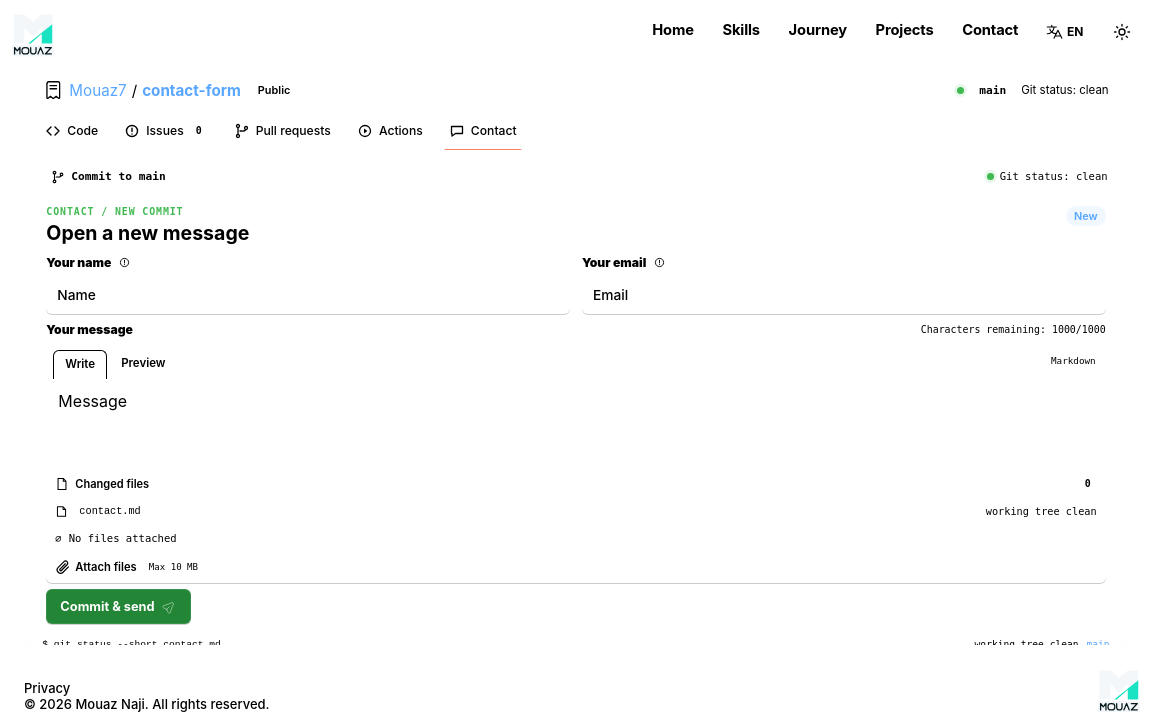
Test: contact send failures and success › explains a prepare failure with code busy
Type "Mouaz Test" into the field with id "contact-mobile-name" at (308, 295), box [46,277,570,314]
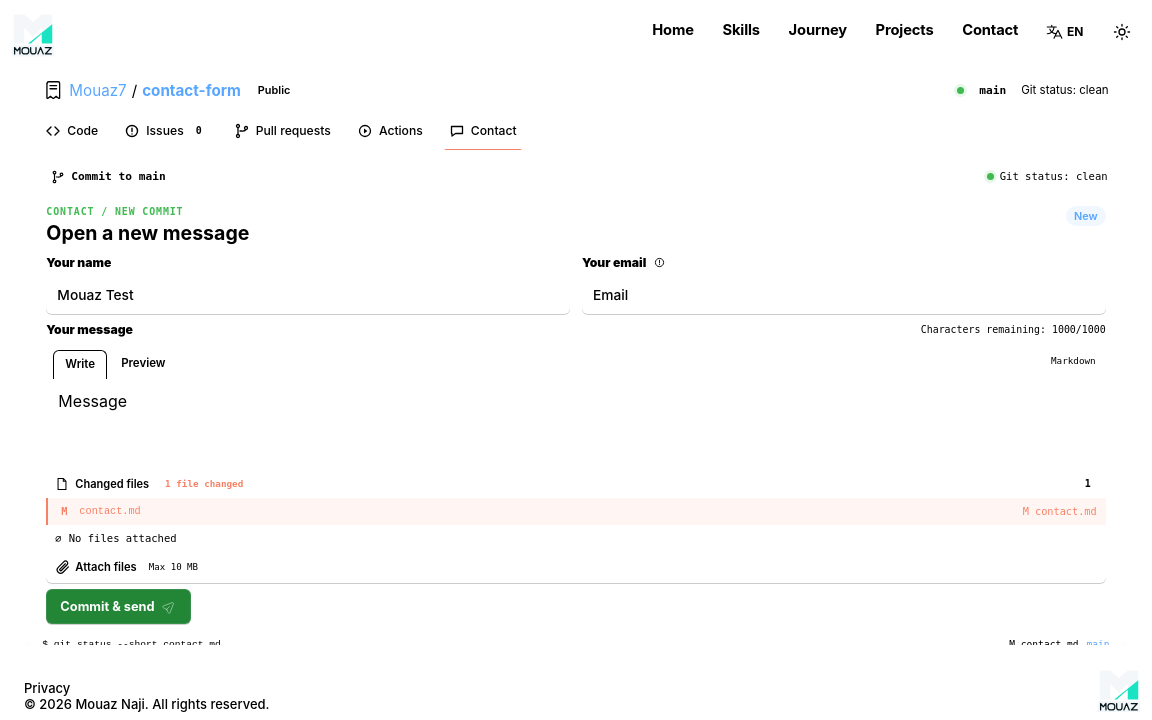
Type "test@example.com" into the field with id "contact-mobile-email" at (844, 295), box [582,277,1106,314]
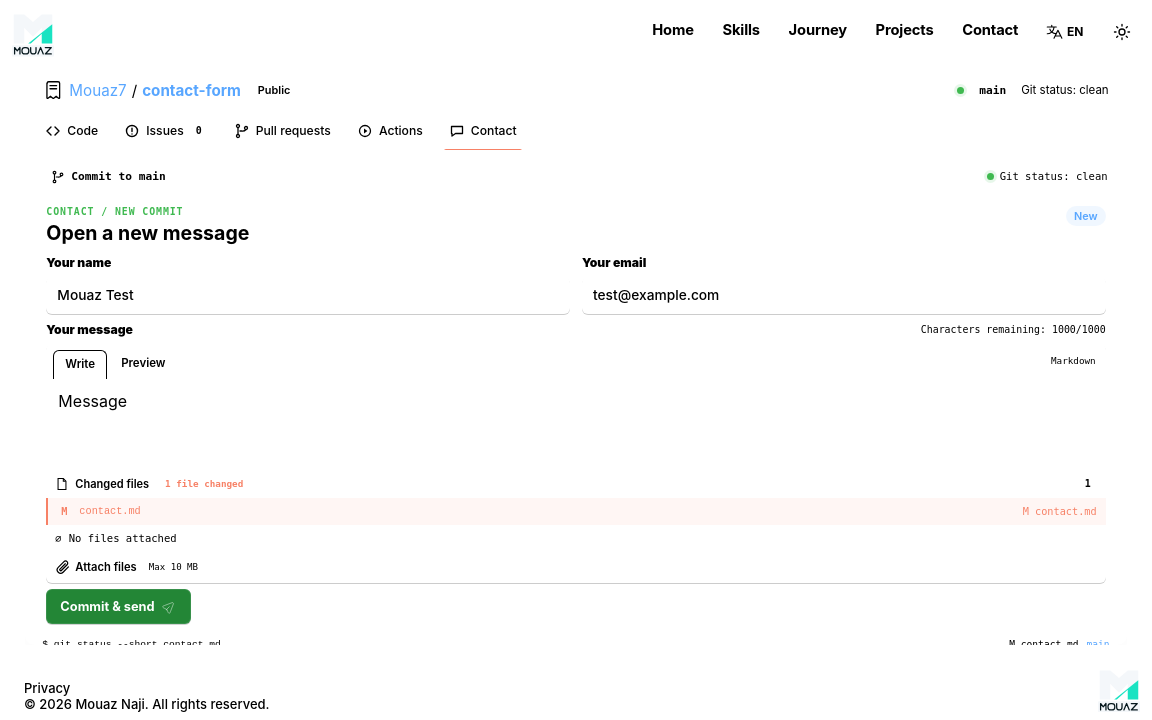
Type "A secure contact test." into the text box with id "contact-mobile-message" at (576, 424), box [46,378,1106,470]
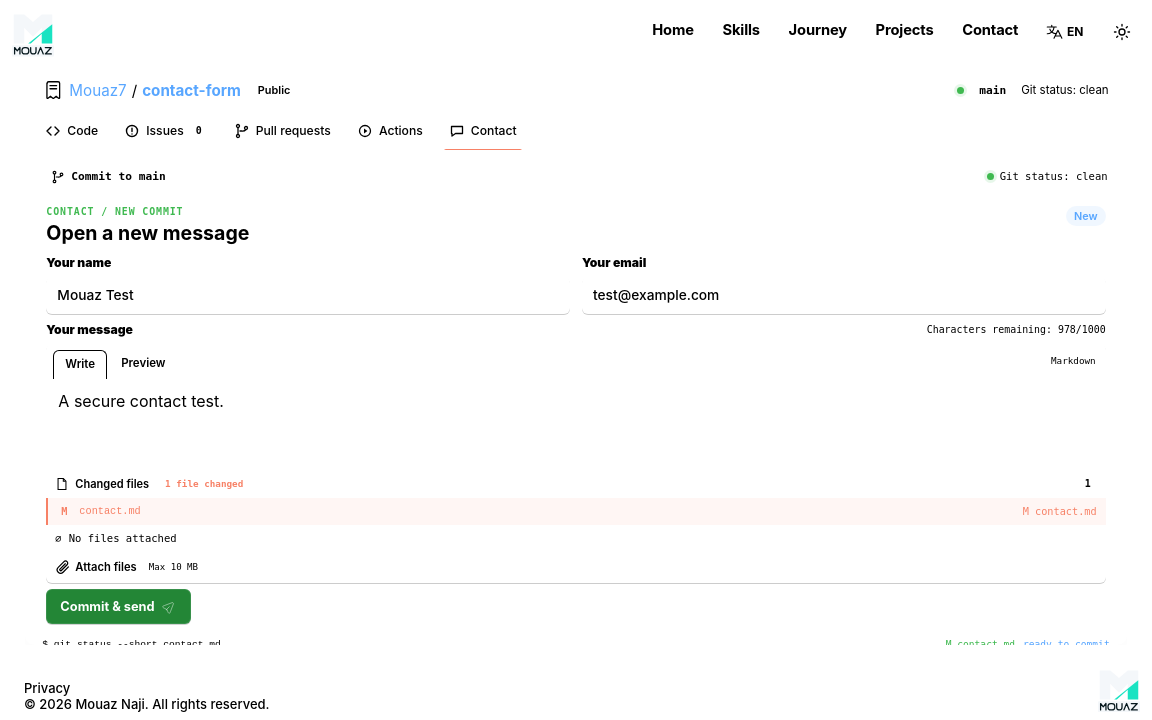
Submit the form named "Contact form"
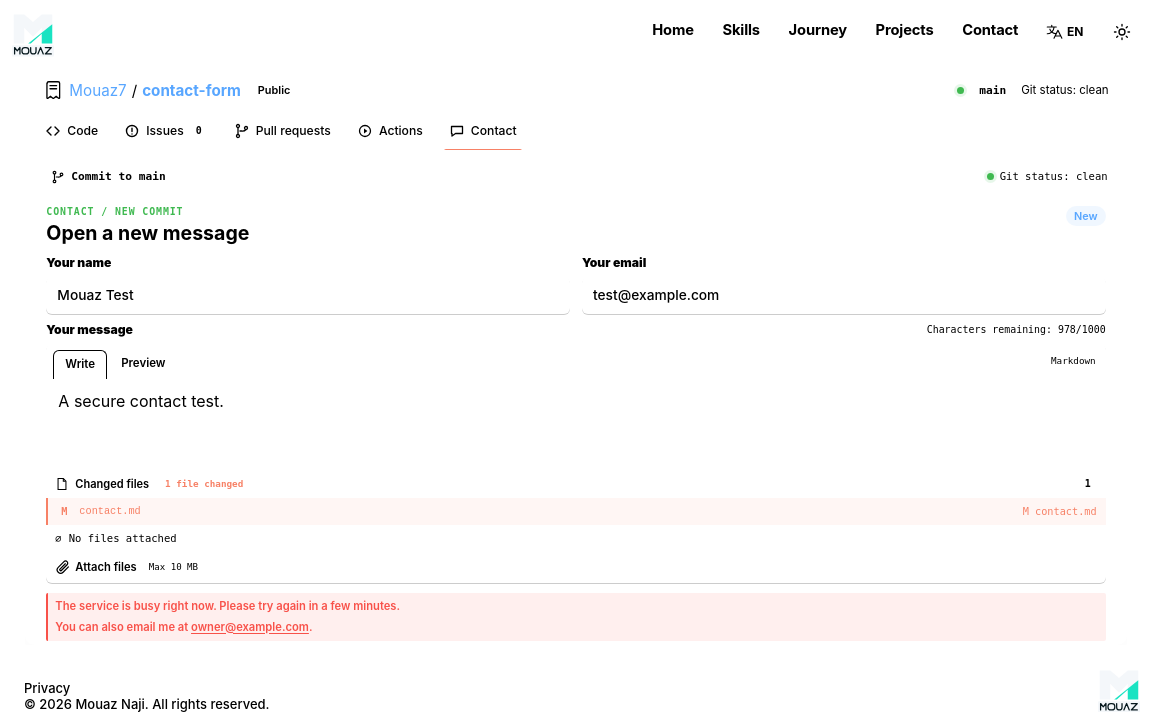
Check: the message shows "The service is busy right now. Please try again in a few minutes.", box [55,599,400,613]
Check: the message shows "You can also email me at owner@example.com.", box [46,593,1106,641]
